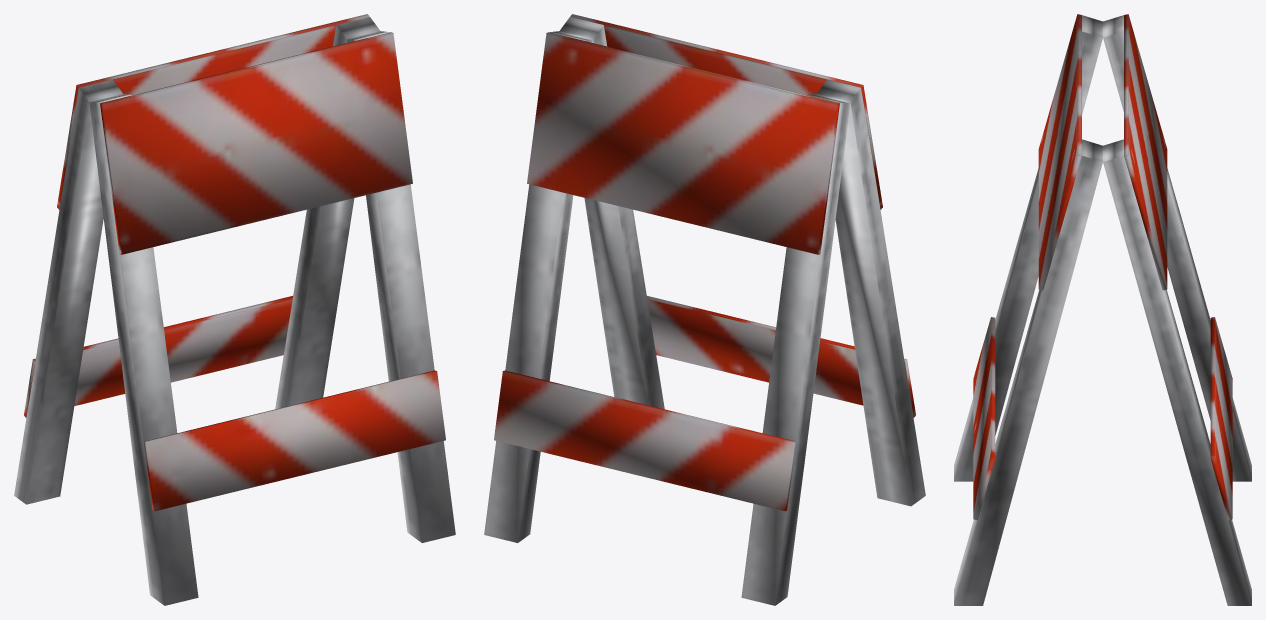
The model's file is Urban_Type2BarrierTopBottom_Model.fbx.
3 views of the same model, side by side, from view 1: azimuth 30°, elevation 25°; view 2: azimuth 150°, elevation 25°; view 3: azimuth 270°, elevation 25° (orthographic).
Visible parts, largest first — view 1: Urban_Type2BarrierTopBottom_Mesh; view 2: Urban_Type2BarrierTopBottom_Mesh; view 3: Urban_Type2BarrierTopBottom_Mesh.
Boxes of the visible parts, <box> form: Urban_Type2BarrierTopBottom_Mesh: <box>14,14,455,605</box>; Urban_Type2BarrierTopBottom_Mesh: <box>484,14,925,605</box>; Urban_Type2BarrierTopBottom_Mesh: <box>954,14,1251,605</box>.
Size of the model in its own units: 0.7959 by 1.19 by 0.7131.
